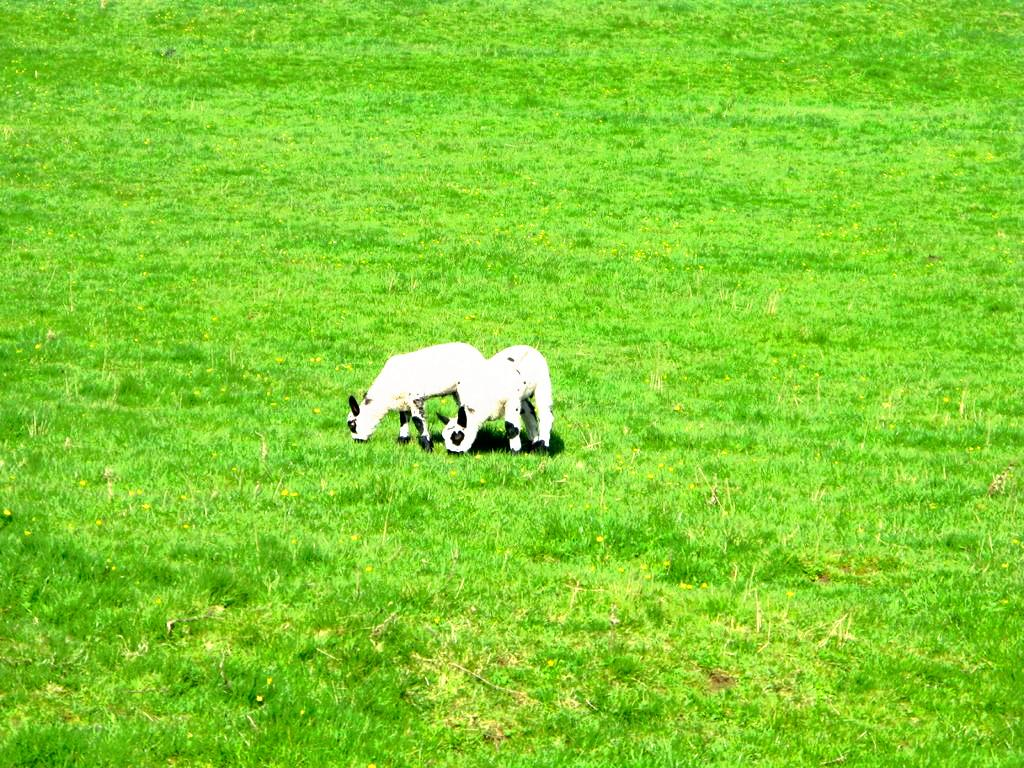Sheep: (346, 342, 486, 448), (434, 344, 554, 458)
